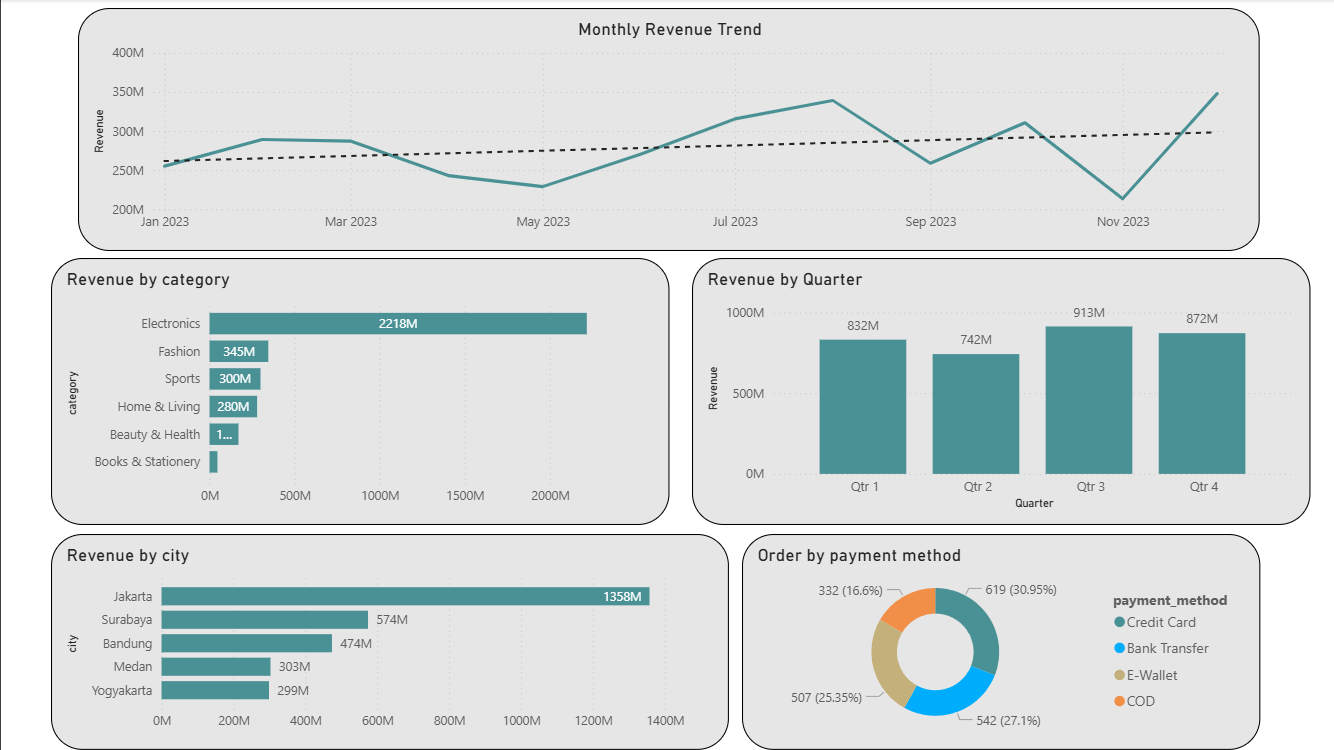

What the dashboard file says about the page in this screenshot:
{"tool":"powerbi","page":{"name":"Page 1","canvas":[1280,720],"ordinal":0},"visuals":[{"type":"lineChart","title":"Monthly Revenue Trend ","fields":{"Category":["ecommerce_sales_2023.month.Variation.Date Hierarchy.Year","ecommerce_sales_2023.month.Variation.Date Hierarchy.Quarter","ecommerce_sales_2023.month.Variation.Date Hierarchy.Month","ecommerce_sales_2023.month.Variation.Date Hierarchy.Day"],"Y":["Sum(ecommerce_sales_2023.revenue)"]},"box":[73.8,8.6,1133.3,233],"z":0},{"type":"clusteredBarChart","title":"Revenue by category","fields":{"Category":["ecommerce_sales_2023.category"],"Y":["Sum(ecommerce_sales_2023.revenue)"]},"box":[47.9,248.3,592.5,256],"z":1000},{"type":"clusteredColumnChart","title":"Revenue by Quarter","fields":{"Y":["Sum(ecommerce_sales_2023.revenue)"],"Category":["ecommerce_sales_2023.month.Variation.Date Hierarchy.Quarter"]},"box":[662.5,248.3,592.5,256],"z":2000},{"type":"clusteredBarChart","title":"Revenue by city","fields":{"Category":["ecommerce_sales_2023.city"],"Y":["Sum(ecommerce_sales_2023.revenue)"]},"box":[47.9,513,650.1,207.1],"z":3000},{"type":"donutChart","title":"Order by payment method","fields":{"Category":["ecommerce_sales_2023.payment_method"],"Y":["CountNonNull(ecommerce_sales_2023.order_id)"]},"box":[710.5,513,496.7,207.1],"z":4000}]}

Visuals, with their boxes in screenshot pixels (x1, y1, x2, y2), scaled from the page's 1280x720 canvas onto the 1334x750 screenshot:
"Monthly Revenue Trend " lineChart: 77,9,1258,252
"Revenue by category" clusteredBarChart: 50,259,667,525
"Revenue by Quarter" clusteredColumnChart: 690,259,1308,525
"Revenue by city" clusteredBarChart: 50,534,727,749
"Order by payment method" donutChart: 740,534,1258,749
